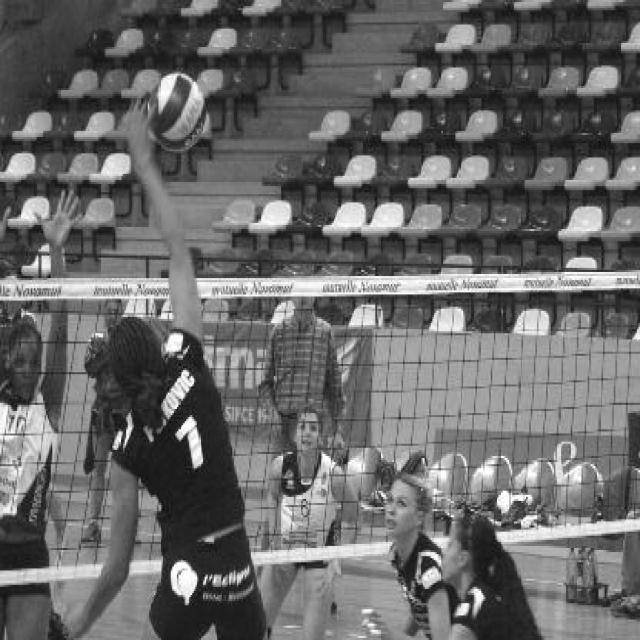volleyball: (146, 72, 206, 151)
